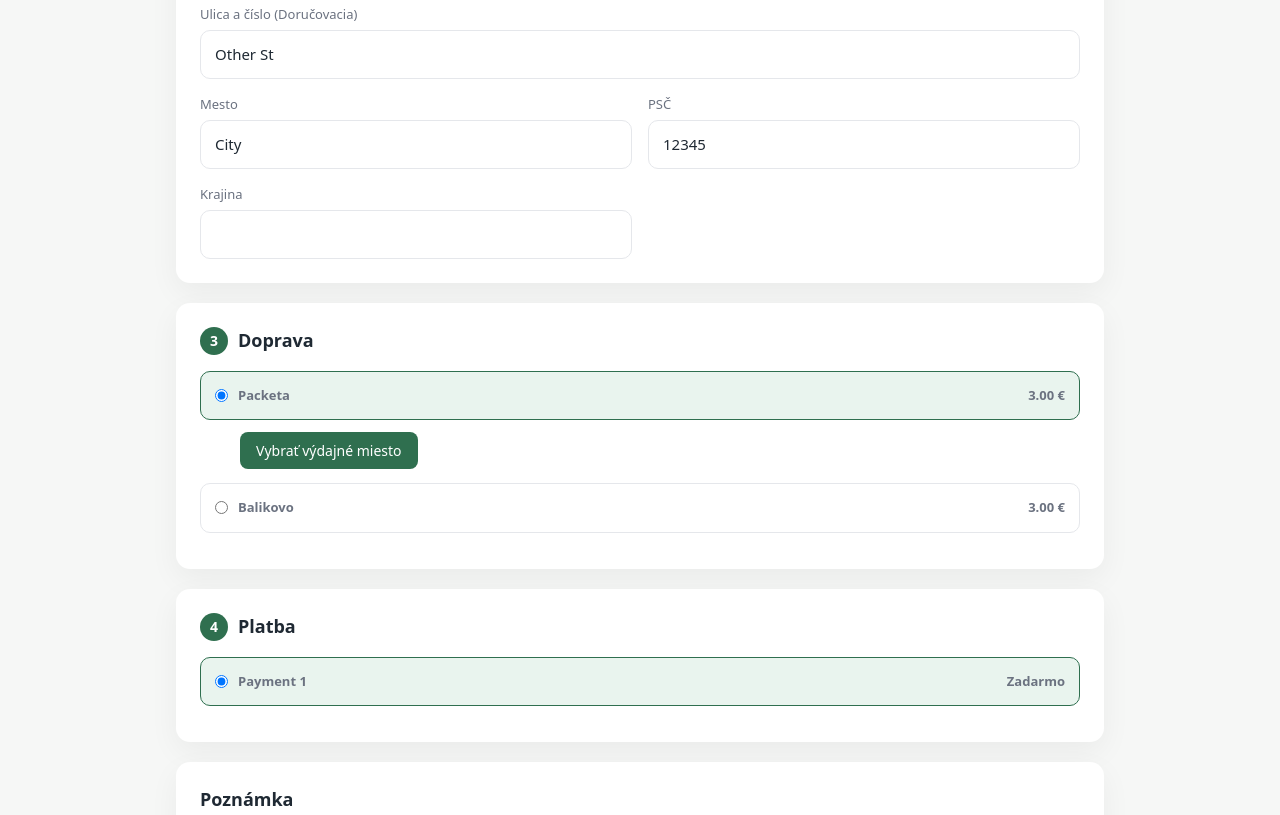
Test: Checkout Component › retains pickup point selection when switching between carriers
(page scrolled)
Click the button "Vybrať výdajné miesto".
click(329, 450)  # box x1=240 y1=432 x2=418 y2=469
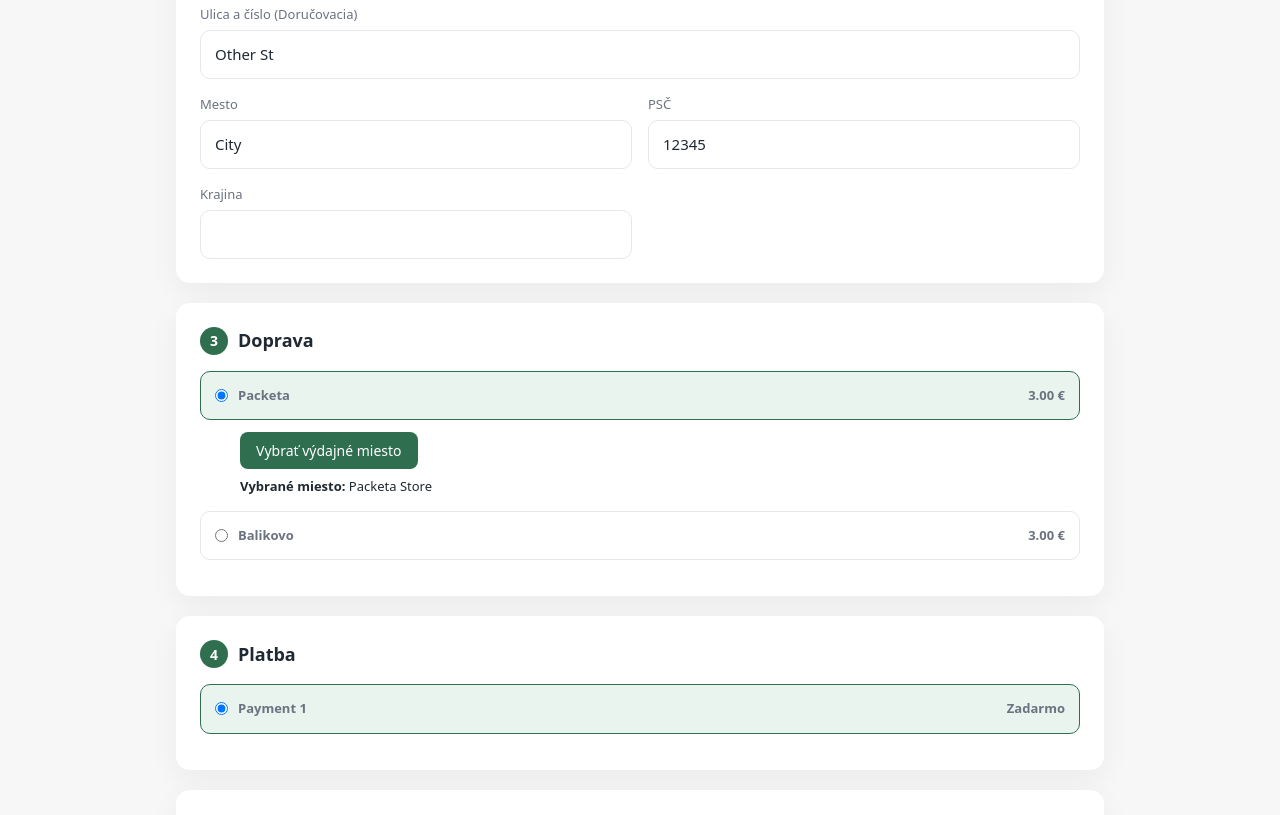
Result: the text "Packeta Store" is shown at x1=349 y1=477 x2=432 y2=495
Switch to Balikovo
Click the radio button labelled "Balikovo 3.00 €".
click(222, 535)  # box x1=215 y1=529 x2=228 y2=542
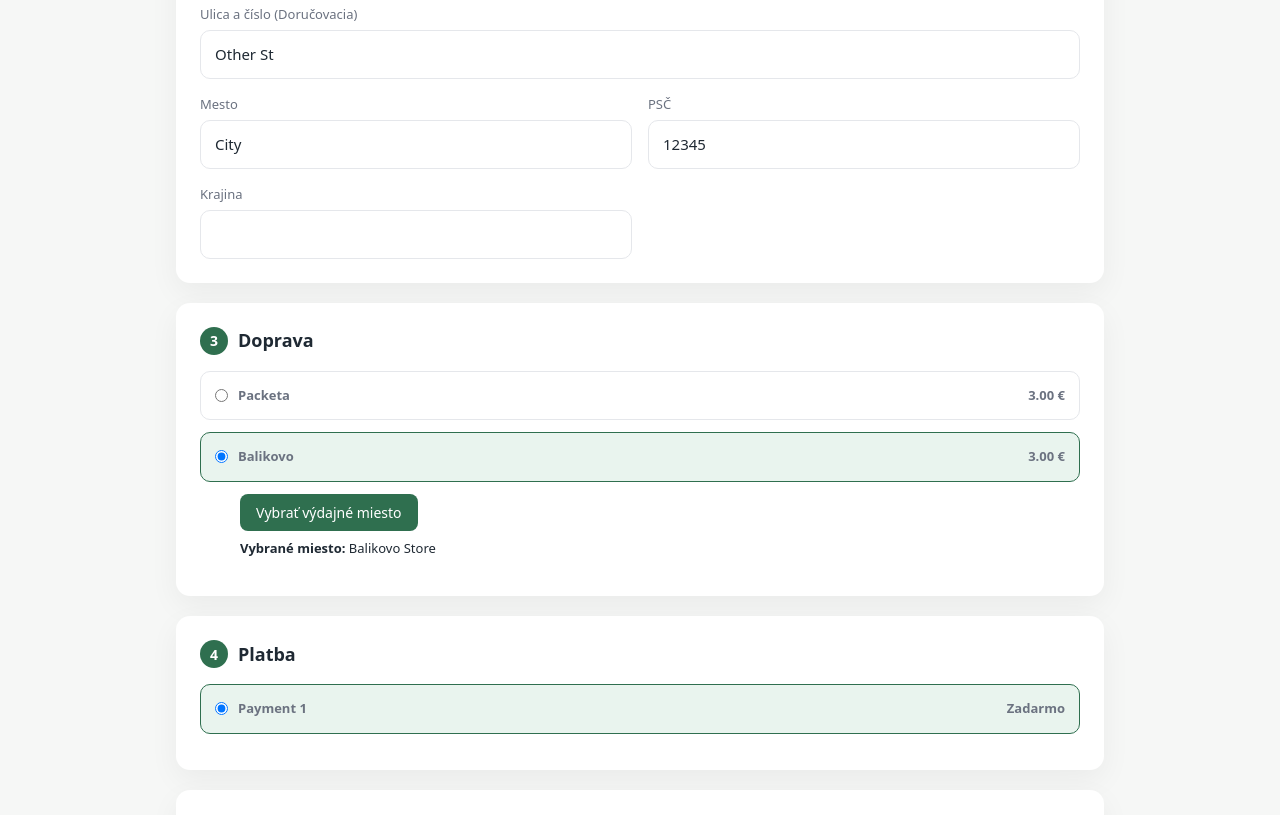
Result: the text "Balikovo Store" is shown at x1=349 y1=538 x2=436 y2=556
Switch back to Packeta
Click the radio button labelled "Packeta 3.00 €".
click(222, 395)  # box x1=215 y1=389 x2=228 y2=402
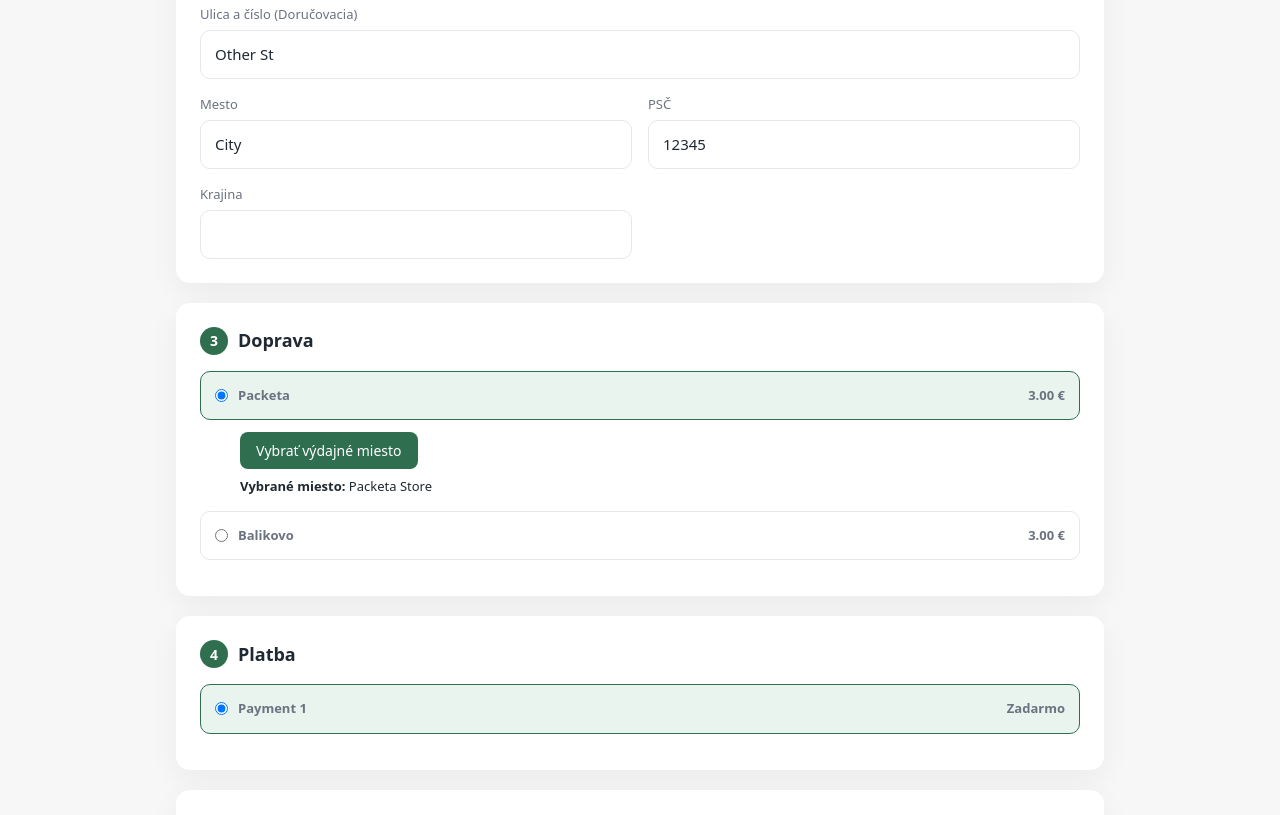
Result: the text "Packeta Store" is shown at x1=349 y1=477 x2=432 y2=495
